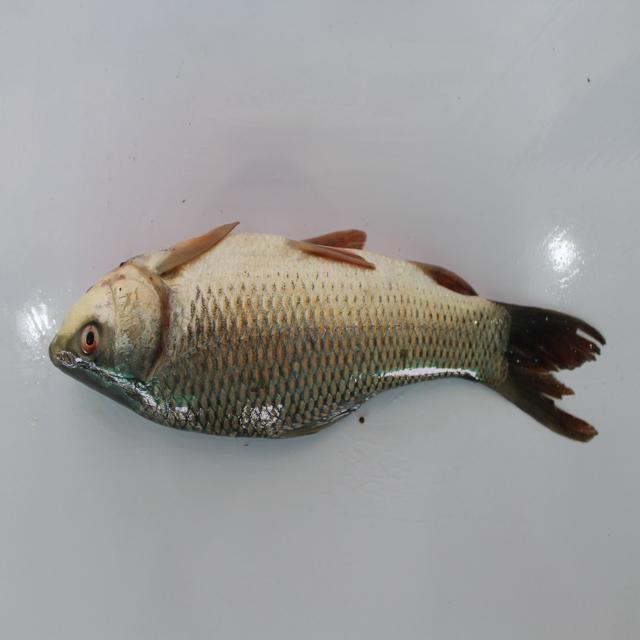Rohu: (34, 218, 633, 463)
